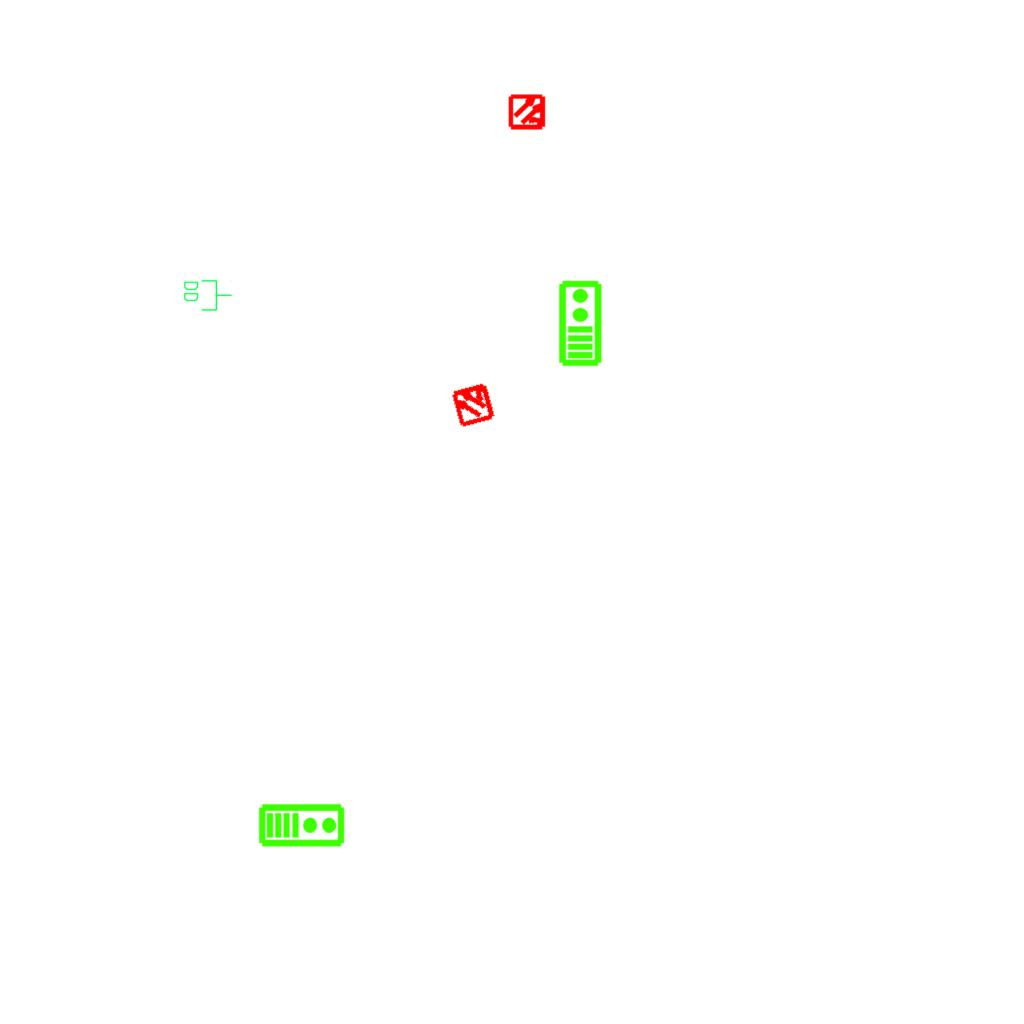Datenanschluss_zweifach: (182, 278, 233, 312)
Gegensprechanlage_mit_Video: (556, 279, 603, 367), (258, 801, 346, 848)
OT_Multisensormelder_(Kombination_RMO_WMD): (438, 369, 508, 439), (500, 84, 556, 140)
